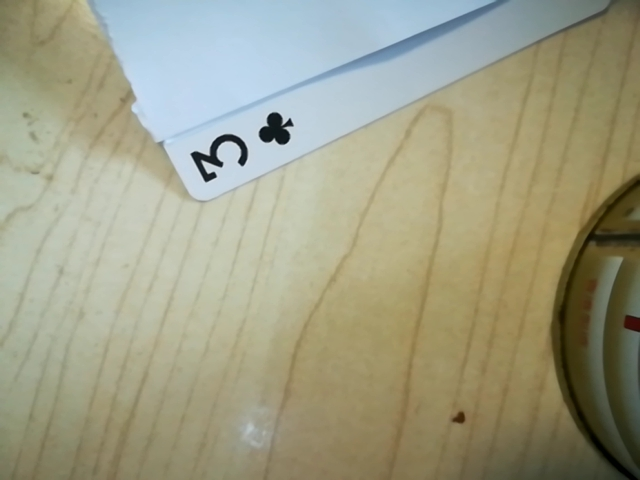mh 3: (182, 105, 302, 189)
